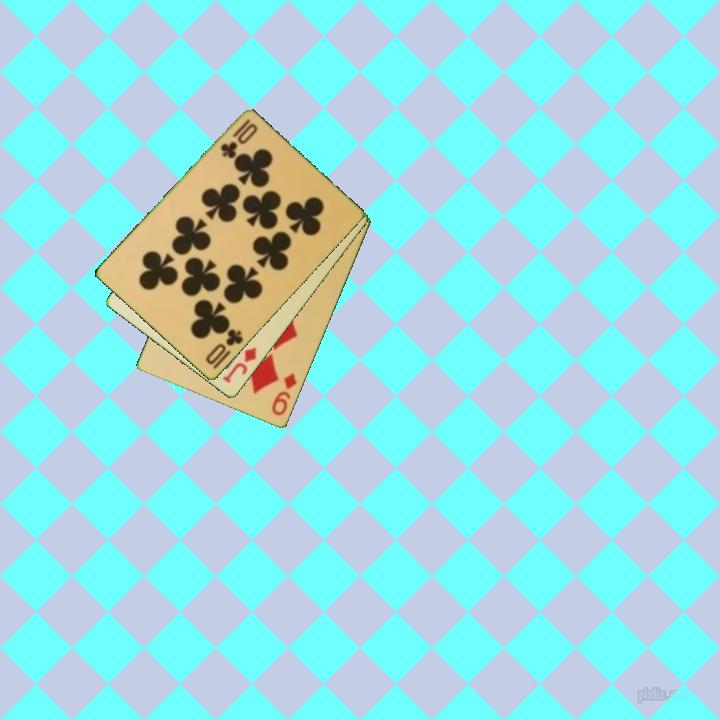10c: (216, 116, 261, 162), (202, 326, 246, 372)
9d: (268, 370, 300, 419)
Jd: (219, 344, 260, 387)
